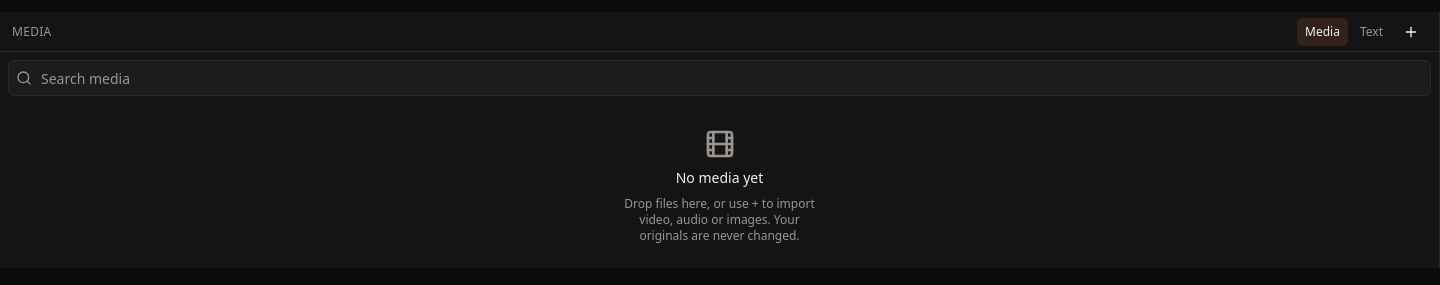
it: MediaLibrary › skips duplicates and reports per-file failures
The width and height of the screenshot is (1440, 285).
Click the button named "Import media": (1411, 32) [1395,16,1427,48]
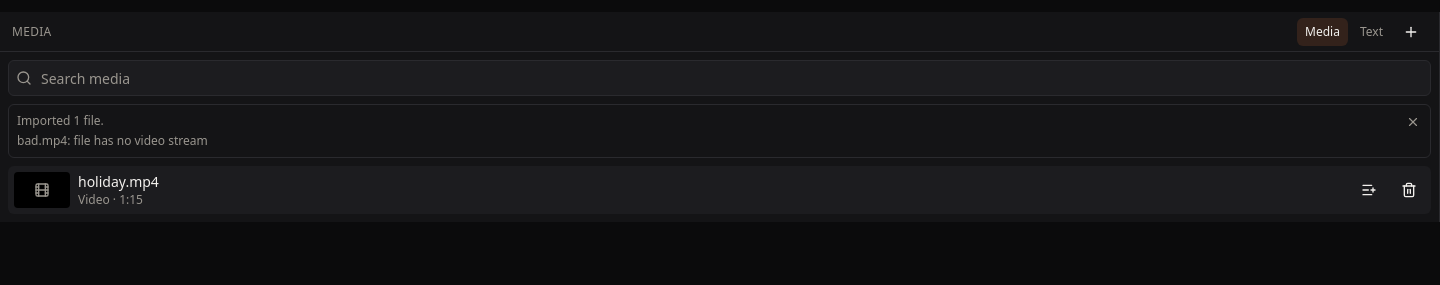
Now the text "holiday.mp4" is shown, box [78,172,159,191]
Now the list item "bad.mp4: file has no video stream" is shown, box [17,132,208,149]
Click the button named "Import media": (1411, 32) [1395,16,1427,48]
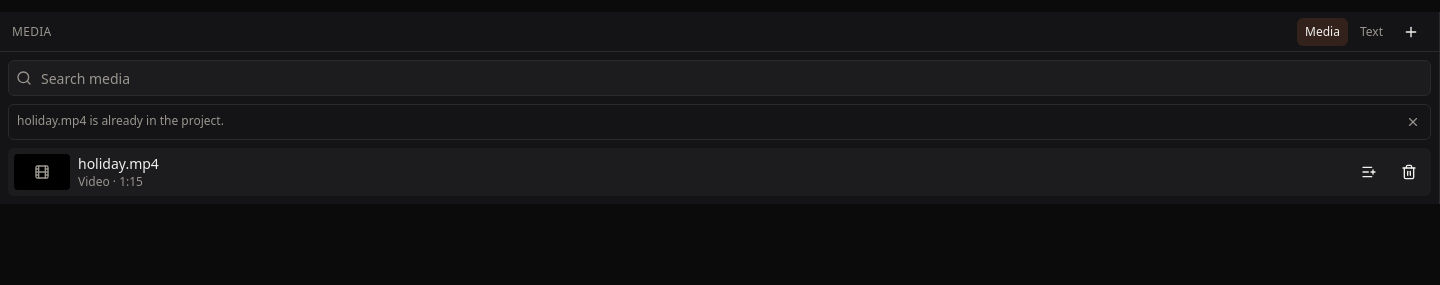
Now the list item "holiday.mp4 is already in the project." is shown, box [17,112,224,129]
